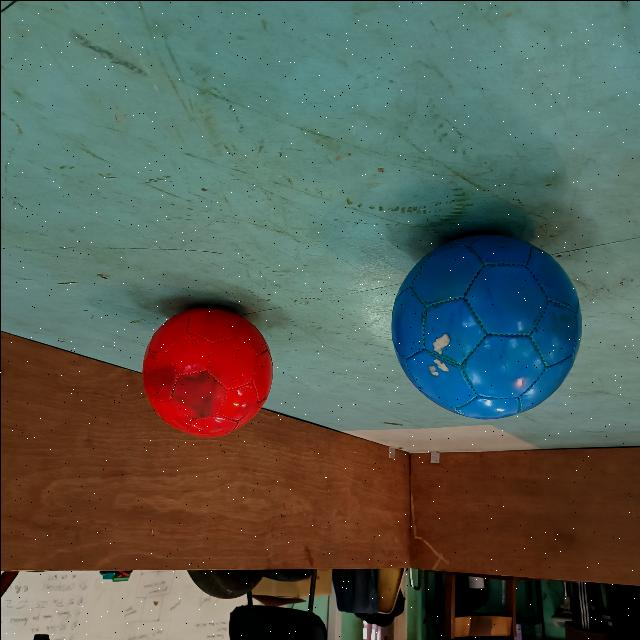B: (387, 226, 586, 422)
R: (133, 303, 277, 442)
